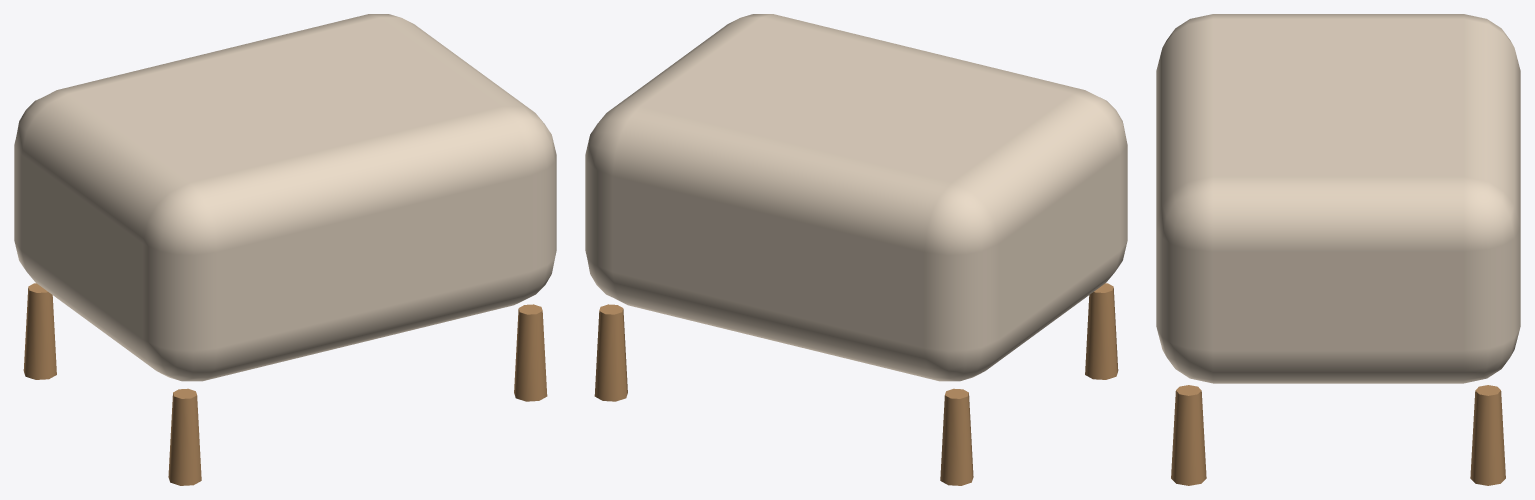
The model's file is ottoman-lite.glb.
3 renders of one model, left to right at view 1: azimuth 30°, elevation 25°; view 2: azimuth 150°, elevation 25°; view 3: azimuth 270°, elevation 25°, orthographic. The views are drawn at different scales.
Visible parts, largest first — view 1: material-1-upholstery, material-0-leg; view 2: material-1-upholstery, material-0-leg; view 3: material-1-upholstery, material-0-leg.
Boxes of the visible parts, x1,y1,x2,y2 form: material-1-upholstery: [14, 14, 556, 381]; material-0-leg: [23, 283, 547, 485]; material-1-upholstery: [585, 14, 1127, 381]; material-0-leg: [594, 283, 1118, 485]; material-1-upholstery: [1156, 14, 1520, 383]; material-0-leg: [1171, 385, 1505, 485].
Bounding box in the file's own units: 0.6 × 0.4 × 0.45.
